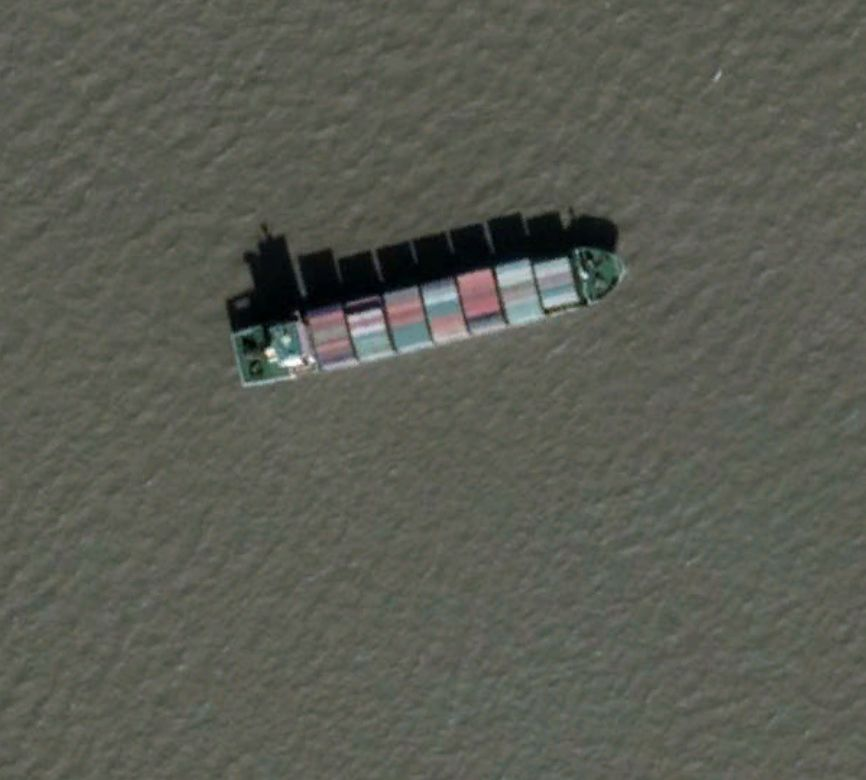boat: (225, 211, 630, 390)
